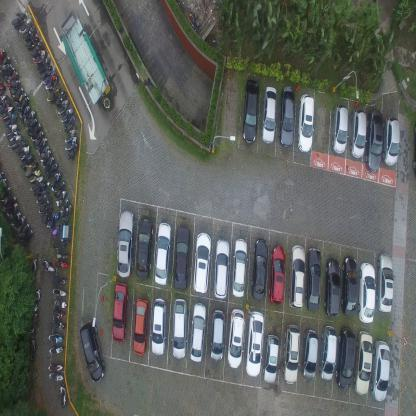car: (78, 317, 106, 384), (244, 310, 264, 378), (335, 326, 356, 390), (304, 246, 323, 314), (370, 339, 390, 403), (116, 208, 134, 278), (366, 107, 385, 173), (354, 330, 373, 396), (192, 232, 211, 297), (288, 243, 306, 311), (241, 76, 259, 144), (297, 90, 316, 154), (250, 236, 268, 302), (153, 221, 171, 287), (226, 308, 245, 370), (268, 242, 286, 307), (358, 260, 376, 325), (278, 83, 296, 148), (340, 255, 358, 319), (324, 255, 342, 318), (376, 251, 394, 314), (172, 226, 189, 292), (110, 281, 128, 343), (230, 238, 248, 300), (212, 238, 230, 300), (282, 322, 300, 384), (134, 216, 151, 281), (189, 302, 206, 365), (319, 324, 337, 382), (260, 83, 277, 143), (170, 298, 186, 361), (384, 112, 402, 166), (150, 296, 166, 356), (300, 328, 318, 380), (132, 298, 148, 356), (350, 106, 368, 157), (262, 333, 280, 383), (332, 101, 349, 153), (209, 308, 225, 363)
